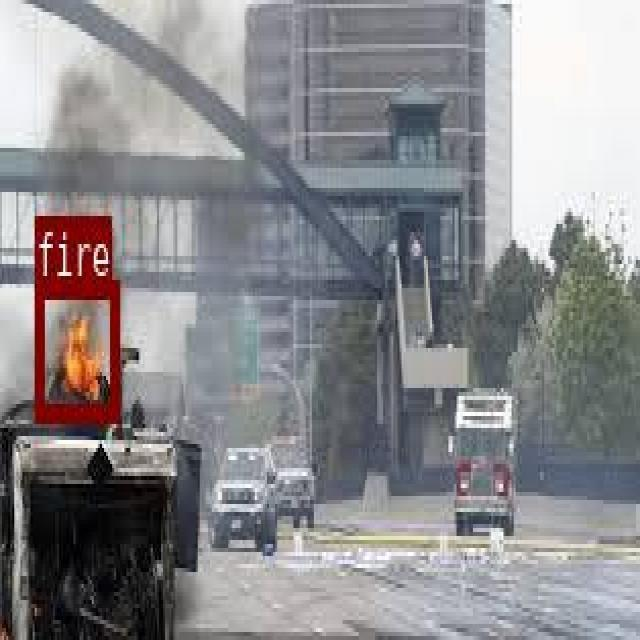fire: (34, 280, 116, 417)
